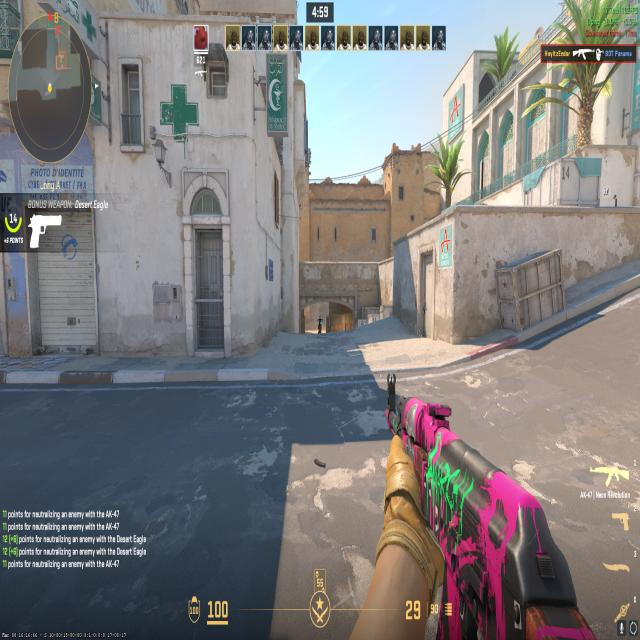ct: (317, 318, 322, 336)
